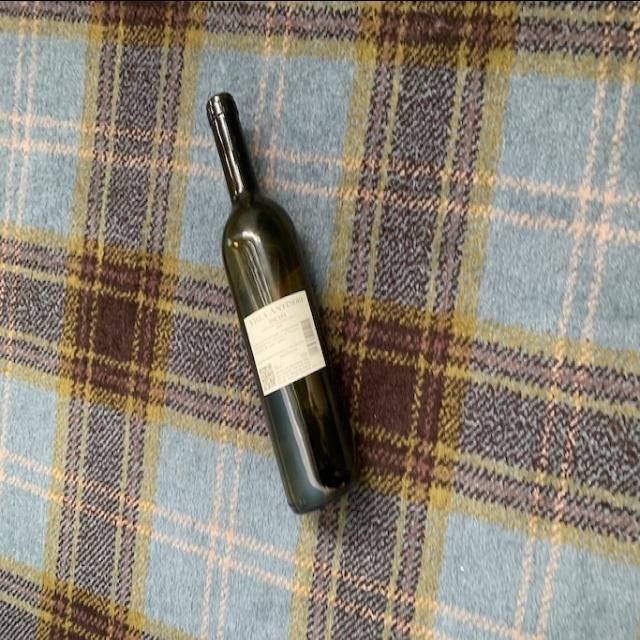Glass Bottle: (204, 86, 364, 518)
